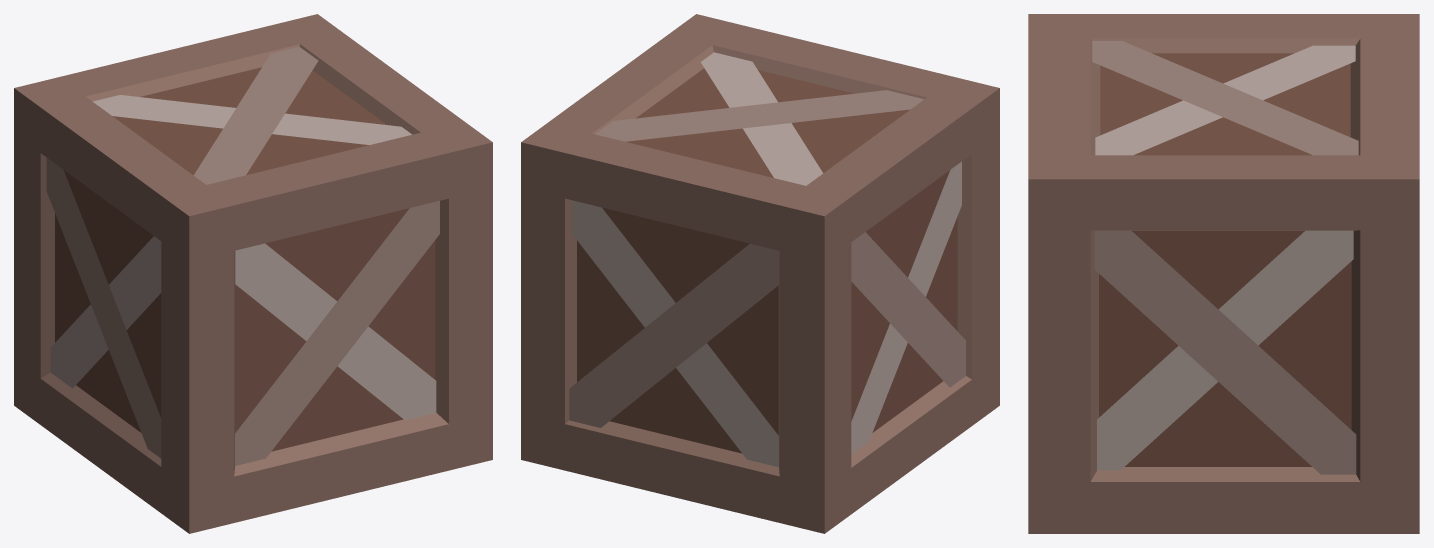
The model's file is props_018.glb.
3 views of the same model, side by side, from view 1: azimuth 30°, elevation 25°; view 2: azimuth 150°, elevation 25°; view 3: azimuth 270°, elevation 25° (orthographic). The views are drawn at different scales.
Parts seen in each view (by area): view 1: props_018; view 2: props_018; view 3: props_018.
Part boxes in pixels (left/top/right/bottom): props_018: left=14, top=14, right=492, bottom=533; props_018: left=521, top=14, right=999, bottom=533; props_018: left=1028, top=14, right=1419, bottom=533.
Size of the model in its own units: 1.19 by 1.19 by 1.19.
Materials: 1 (1 with a texture image).
